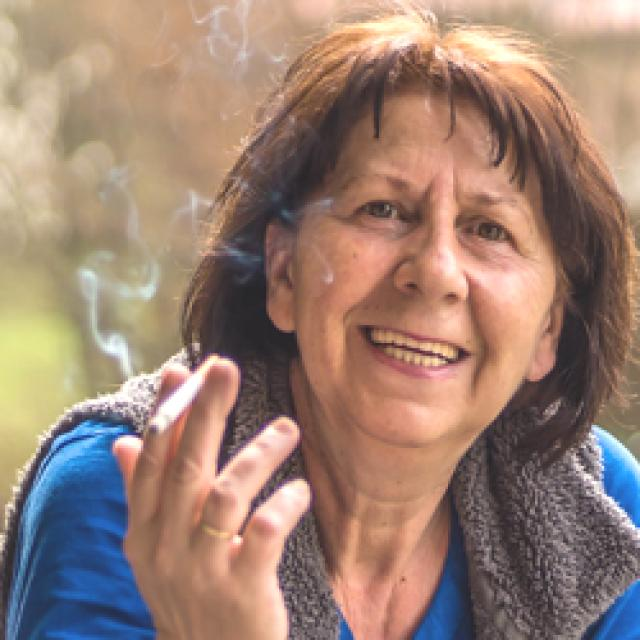Smooking: (144, 363, 235, 447)
